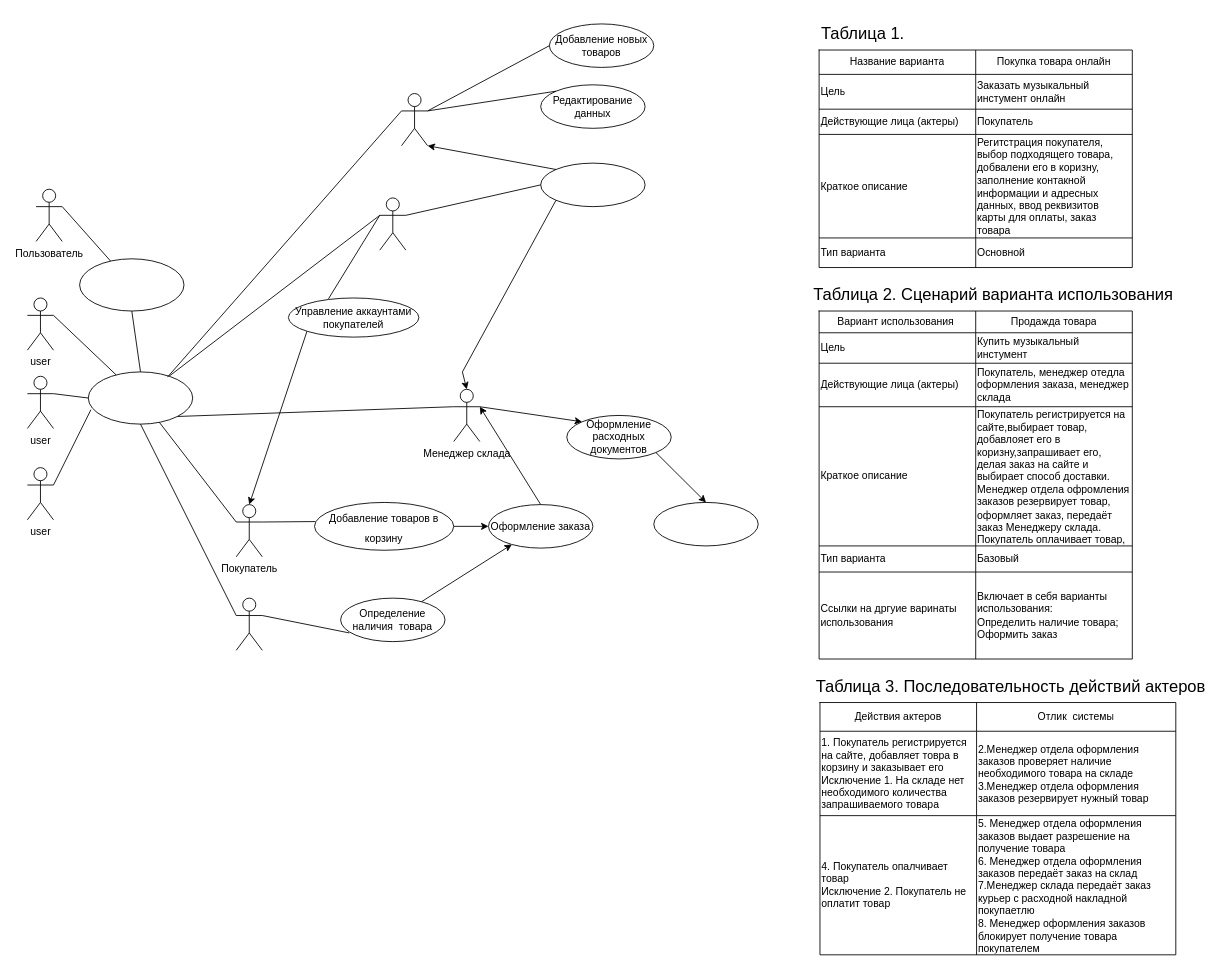
Image size: 1220x970. Some labels were removed from this diagram. The centre of each missing label's shape, as x and y in pixels:
Авторизация: point (140, 397)
Администратор: point (392, 223)
Менеджер сайта: point (414, 119)
Отдел оформления заказов: point (248, 623)
Подготовка к выдаче/Отправка курьера: point (705, 524)
Регистрация: point (131, 284)
Управелние менеджерами: point (592, 184)
